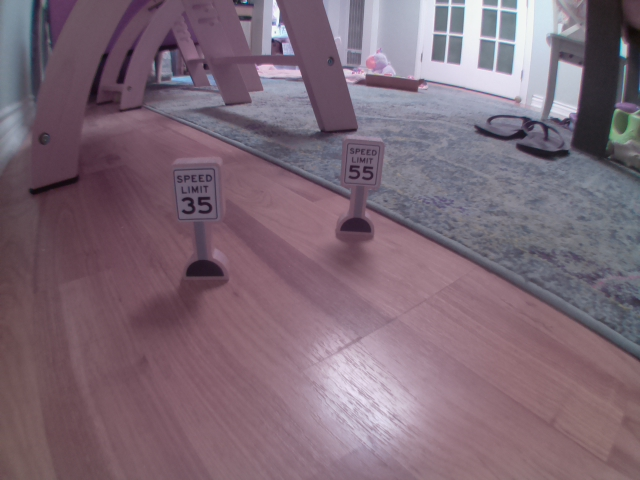Speed Limit 35: (175, 164, 221, 222)
Speed Limit 55: (340, 139, 385, 188)
